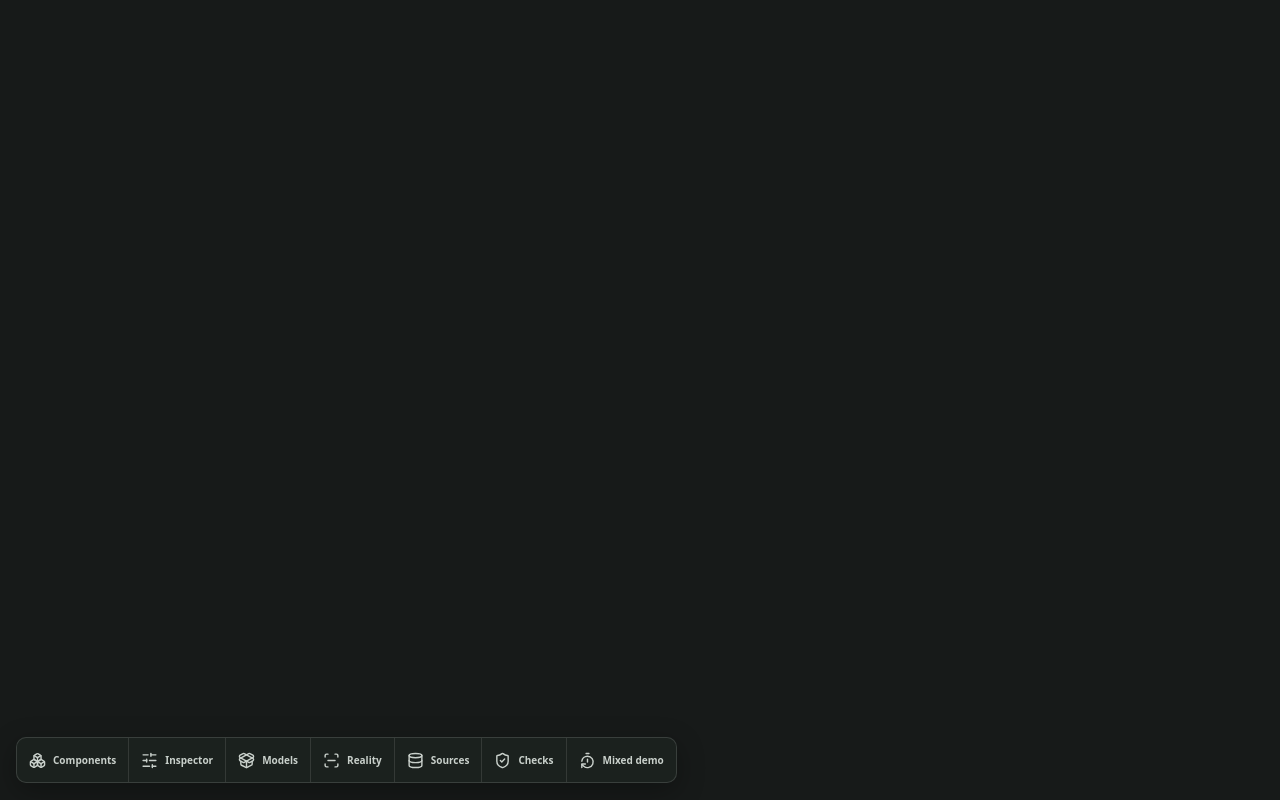
Test: Workspace model library › opens from WorkspaceChrome and only offers publishing for a selected assembly
Click the button "Models" at (269, 760), box top-left (226, 738), bottom-right (311, 782)
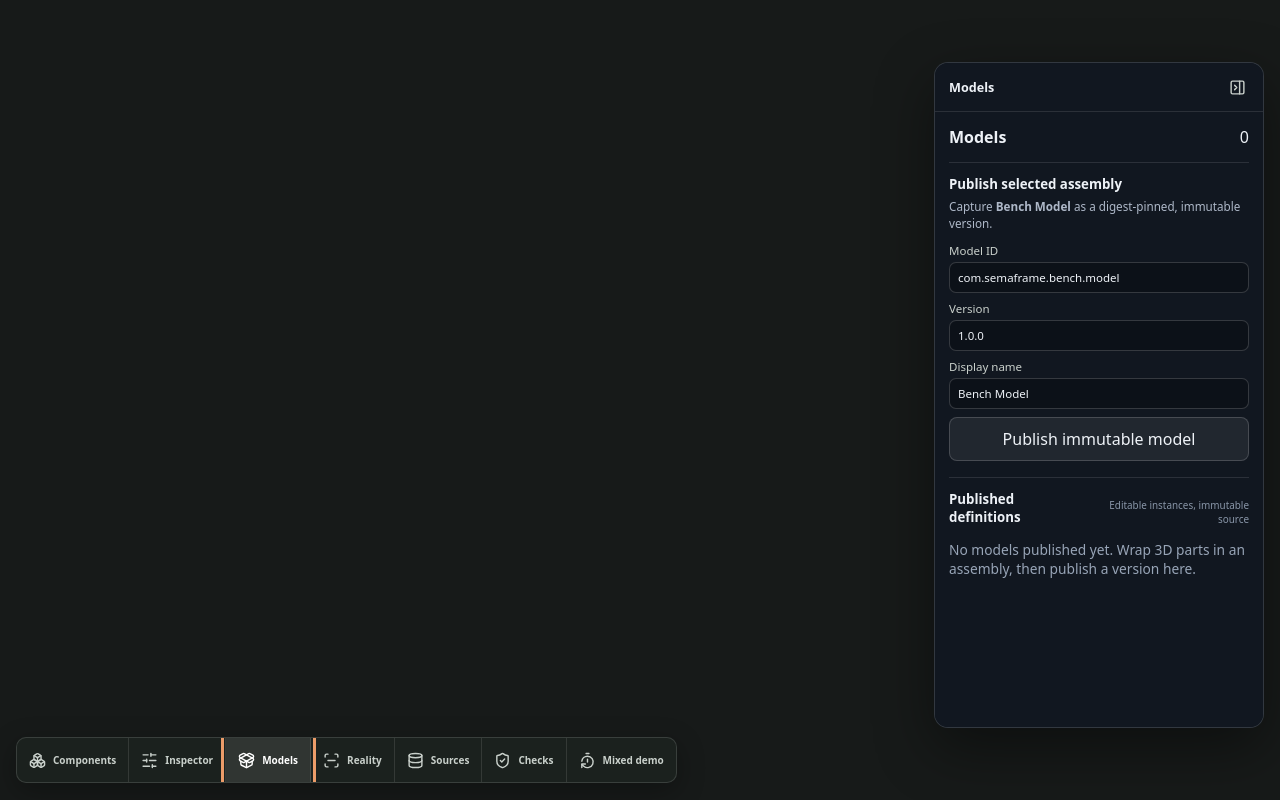
Expected: the element named "models panel" is shown, top-left (934, 62), bottom-right (1264, 728)
Expected: the text "Capture Bench Model as a digest-pinned, immutable version." is shown, top-left (949, 199), bottom-right (1249, 233)
Expected: the field labelled "Display name" holds "Bench Model", top-left (949, 378), bottom-right (1249, 409)
Click the button "Inspector" at (178, 760), box top-left (129, 738), bottom-right (226, 782)
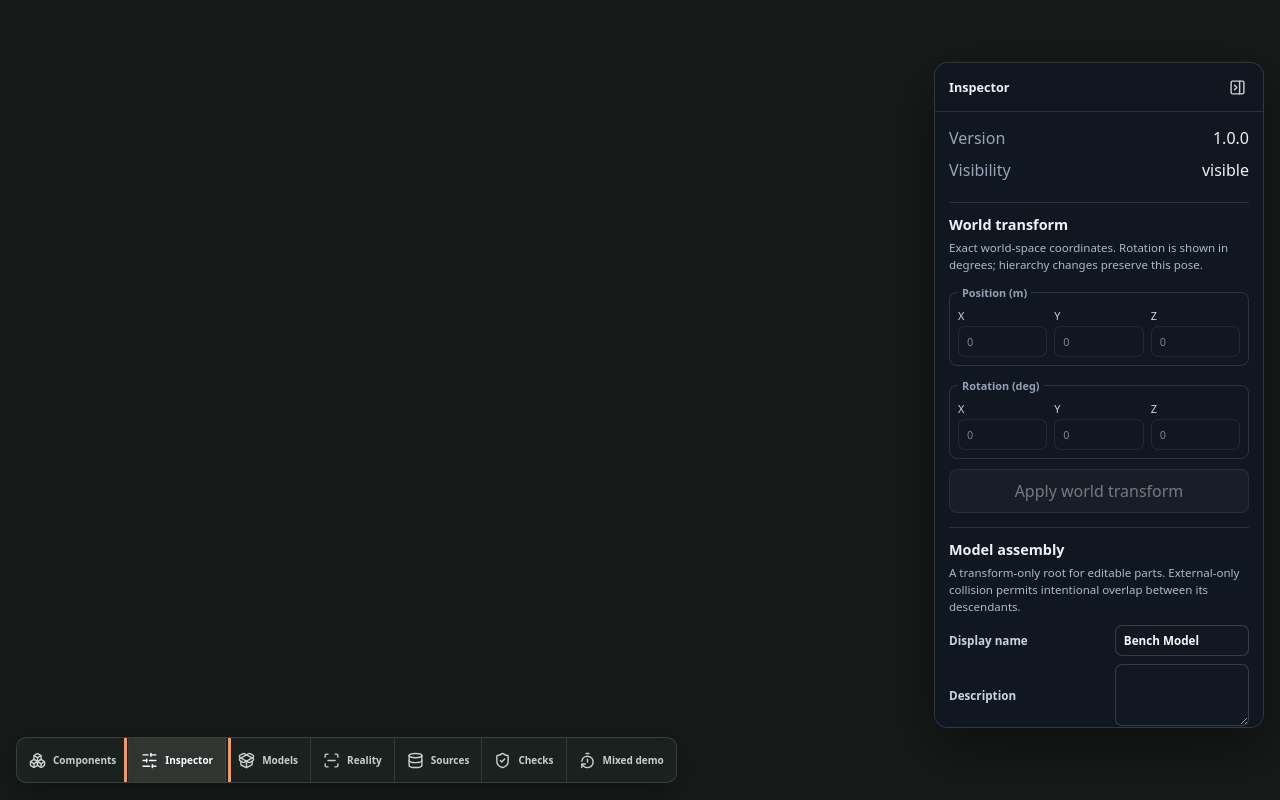
Expected: the button named "Close inspector panel" is shown, top-left (1215, 65), bottom-right (1259, 109)
Expected: the element named "inspector panel" is shown, top-left (934, 62), bottom-right (1264, 728)
Expected: the header with class "workspace-tool-panel__header" reads "Inspector", top-left (949, 78), bottom-right (1010, 96)
Click the button "Models" at (269, 760), box top-left (226, 738), bottom-right (311, 782)
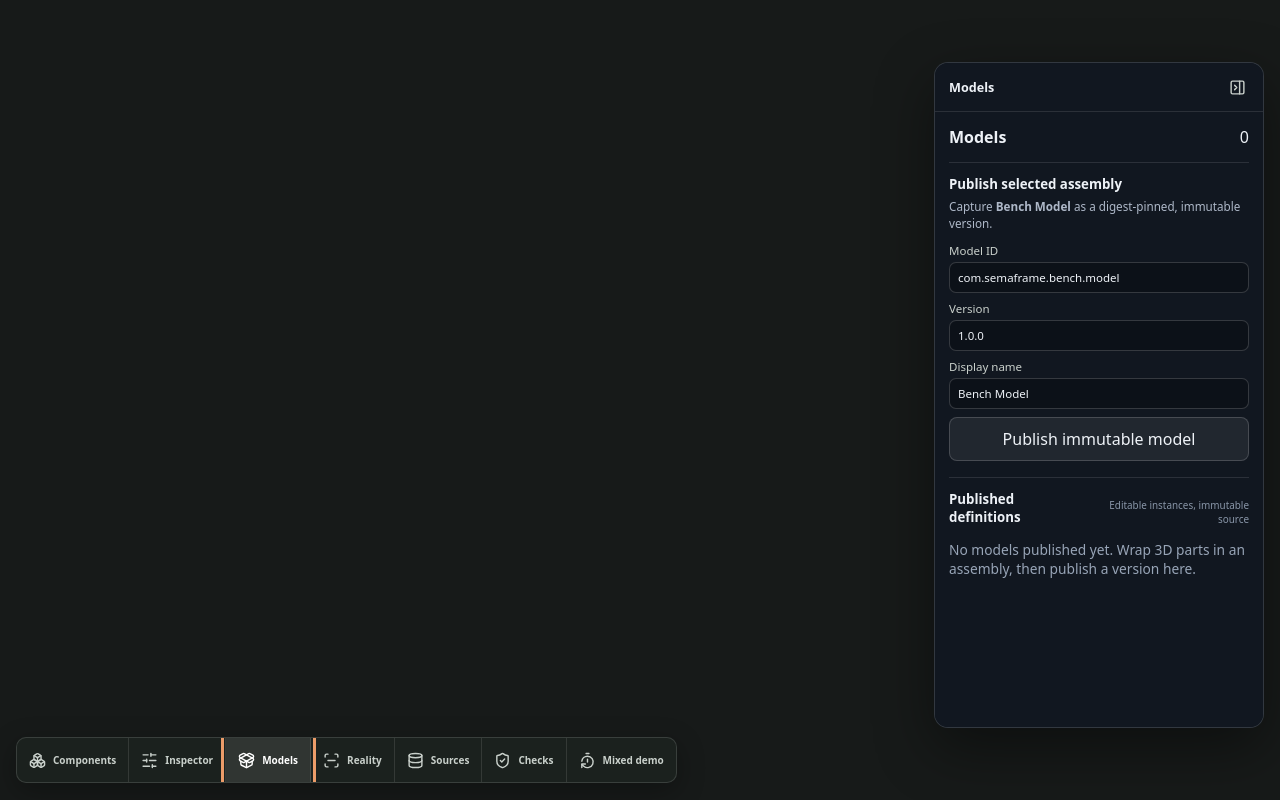
Expected: the header with class "workspace-tool-panel__header" reads "Models", top-left (949, 78), bottom-right (994, 96)
